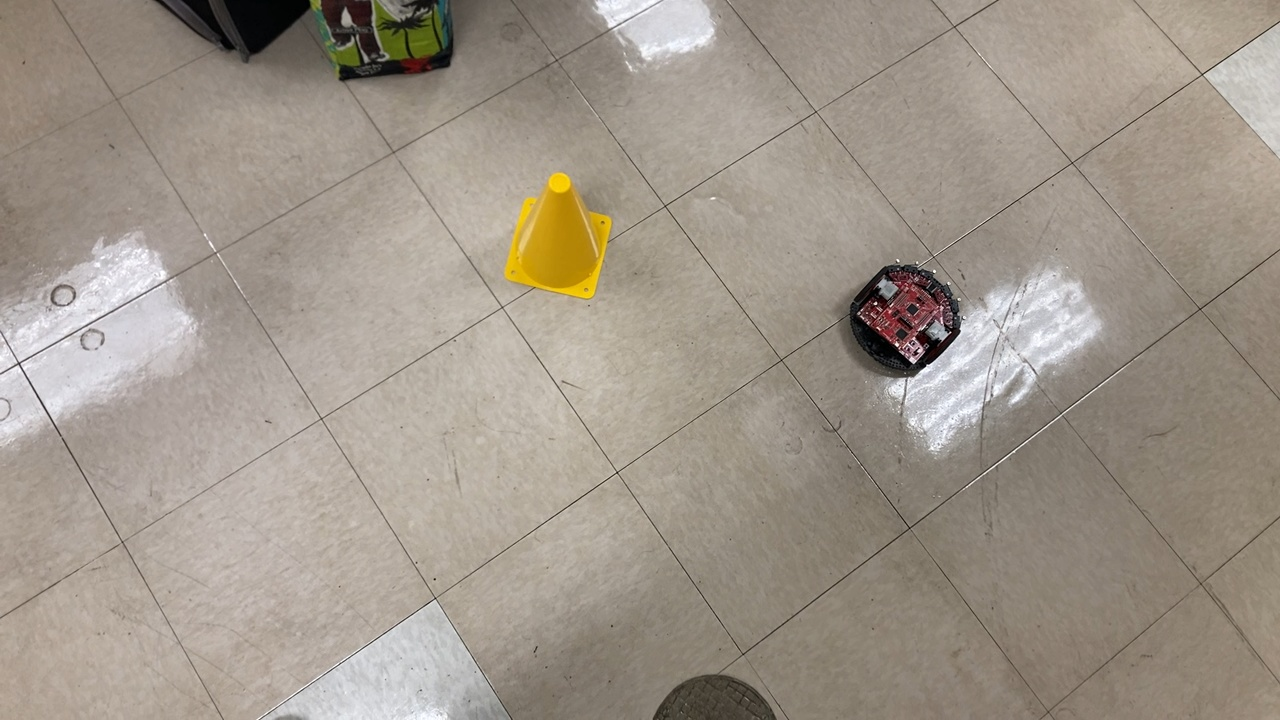robot: (846, 257, 966, 379)
yellow_cone: (501, 172, 616, 305)
